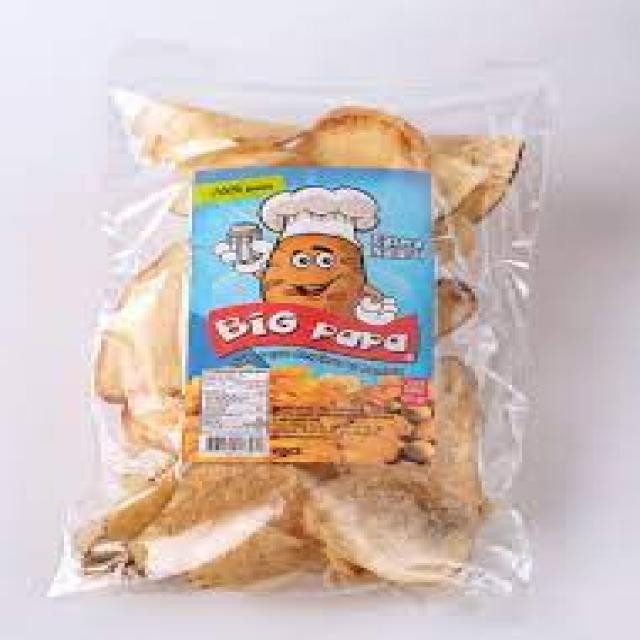Paquete: (38, 54, 575, 617)
